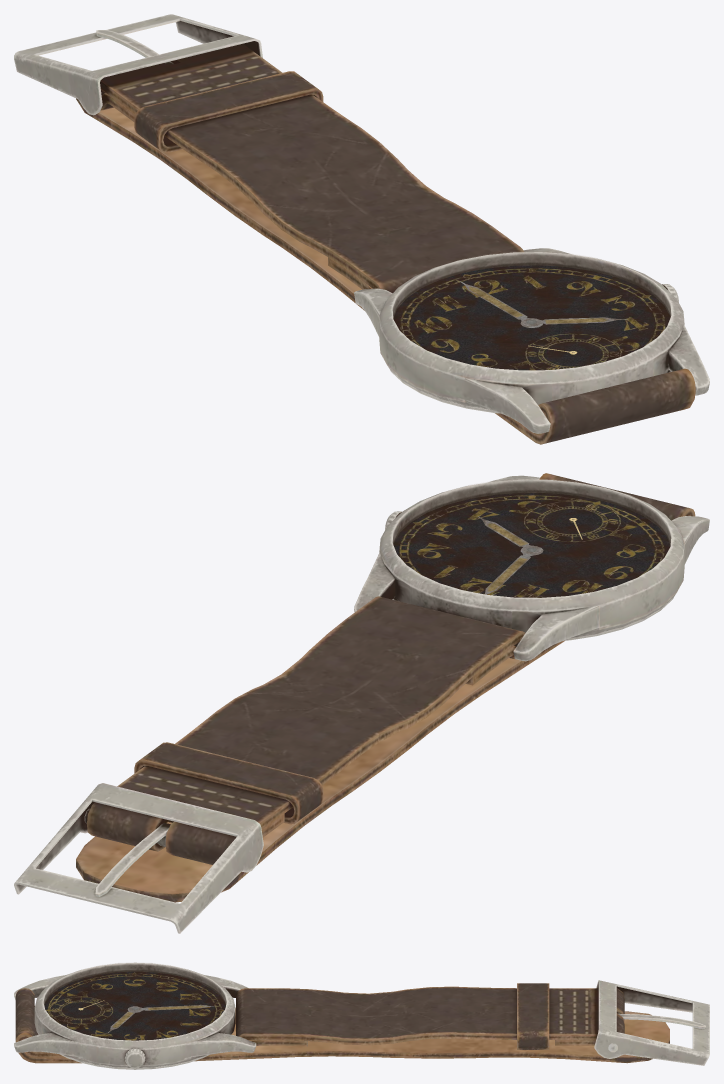
The model's file is reloj.glb.
3 views of the same model, one above another, from view 1: azimuth 30°, elevation 25°; view 2: azimuth 150°, elevation 25°; view 3: azimuth 270°, elevation 25° (orthographic). The views are drawn at different scales.
Parts seen in each view (by area): view 1: body_r_low_Clock_mat_0; view 2: body_r_low_Clock_mat_0; view 3: body_r_low_Clock_mat_0.
Boxes of the visible parts, x1,y1,x2,y2 form: body_r_low_Clock_mat_0: (14, 14, 709, 444); body_r_low_Clock_mat_0: (14, 473, 709, 933); body_r_low_Clock_mat_0: (14, 962, 709, 1069).
Bounding box in the file's own units: 0.1816 × 0.0393 × 0.6074.
Materials: 1 (1 with a texture image).
